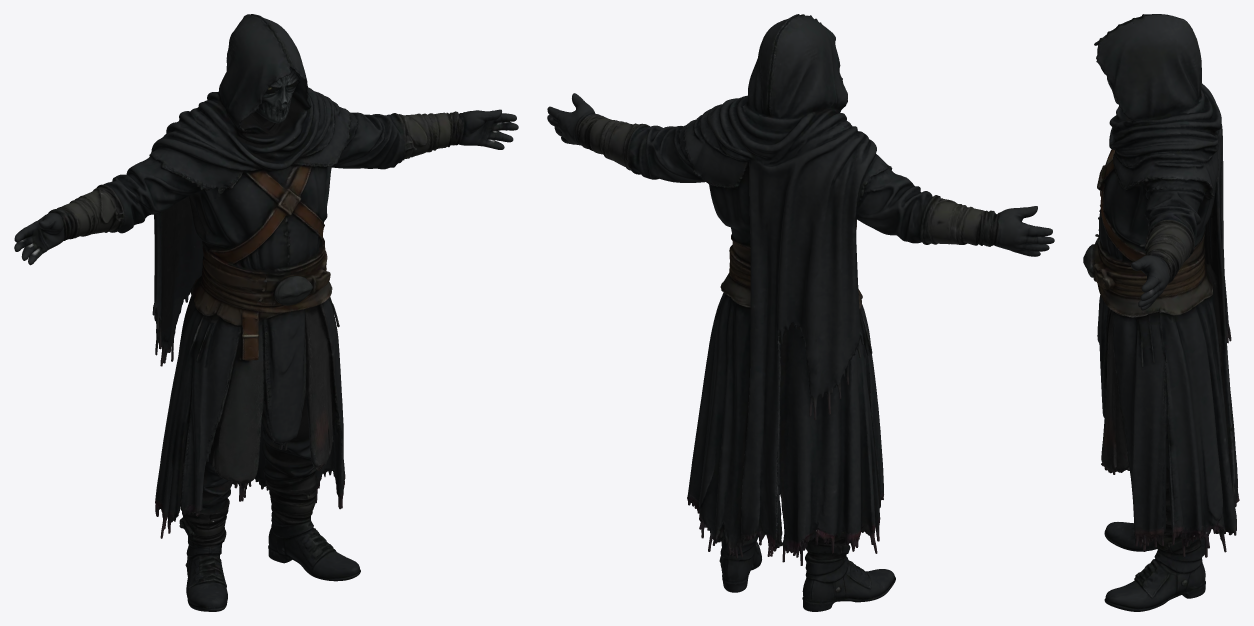
File: The_Nightfall_Ronin_-_Obsidian_Shrouded_Vagabond.glb
3 renders of one model, left to right at view 1: azimuth 30°, elevation 25°; view 2: azimuth 150°, elevation 25°; view 3: azimuth 270°, elevation 25°, orthographic.
Visible parts, largest first — view 1: male_2_male_2_0; view 2: male_2_male_2_0; view 3: male_2_male_2_0.
Part boxes in pixels (bbox=[...]): male_2_male_2_0: bbox=[14, 14, 518, 611]; male_2_male_2_0: bbox=[547, 14, 1054, 611]; male_2_male_2_0: bbox=[1083, 14, 1239, 611].
Bounding box in the file's own units: 1.86 × 2 × 0.503.
1 material, 1 textured.
